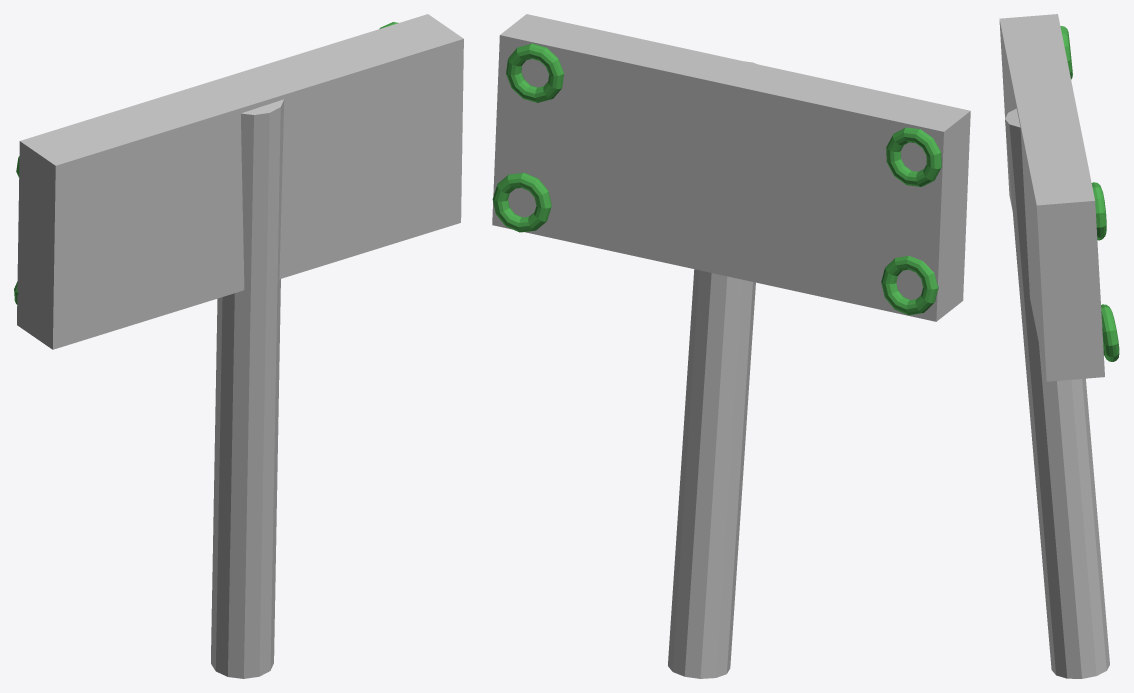
The model's file is sign.obj.
3 views of the same model, side by side, from view 1: azimuth 30°, elevation 25°; view 2: azimuth 150°, elevation 25°; view 3: azimuth 270°, elevation 25° (orthographic). The views are drawn at different scales.
Visible parts, largest first — view 1: group431023889, group363318795; view 2: group431023889, group363318795, group1292105388, group639885657, group724963336, group386710814; view 3: group431023889, group363318795, group1292105388, group639885657, group724963336.
Part boxes in pixels (x1,y1,x2,y2): group431023889: [17, 14, 463, 349]; group363318795: [211, 99, 284, 678]; group431023889: [492, 14, 970, 321]; group363318795: [668, 61, 755, 678]; group1292105388: [492, 172, 551, 232]; group639885657: [506, 43, 563, 102]; group724963336: [886, 127, 941, 186]; group386710814: [881, 256, 938, 315]; group431023889: [999, 14, 1104, 381]; group363318795: [1005, 108, 1109, 678]; group1292105388: [1101, 304, 1119, 361]; group639885657: [1091, 182, 1106, 240]; group724963336: [1060, 26, 1072, 79].
Size of the model in its own units: 0.6354 by 0.8356 by 0.1634.
